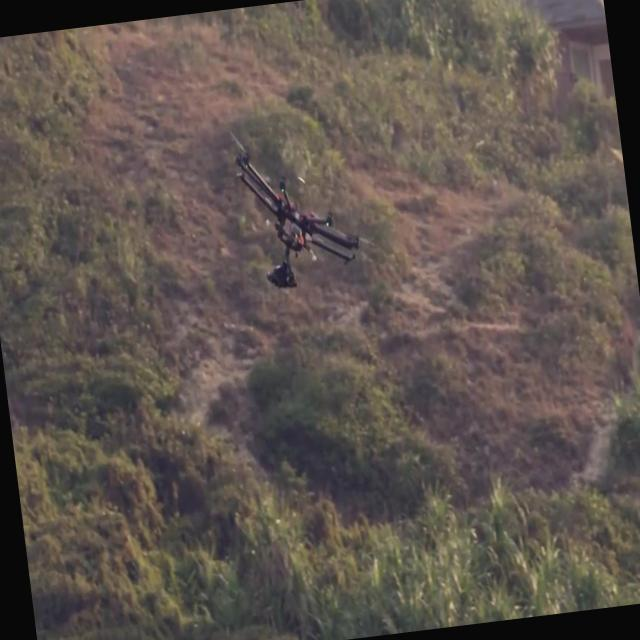drone: (227, 116, 367, 296)
